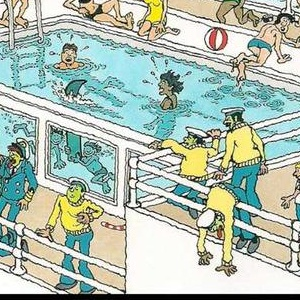Odlaw: (248, 105, 270, 147)
Wizard Whitebeard: (134, 208, 166, 250)
